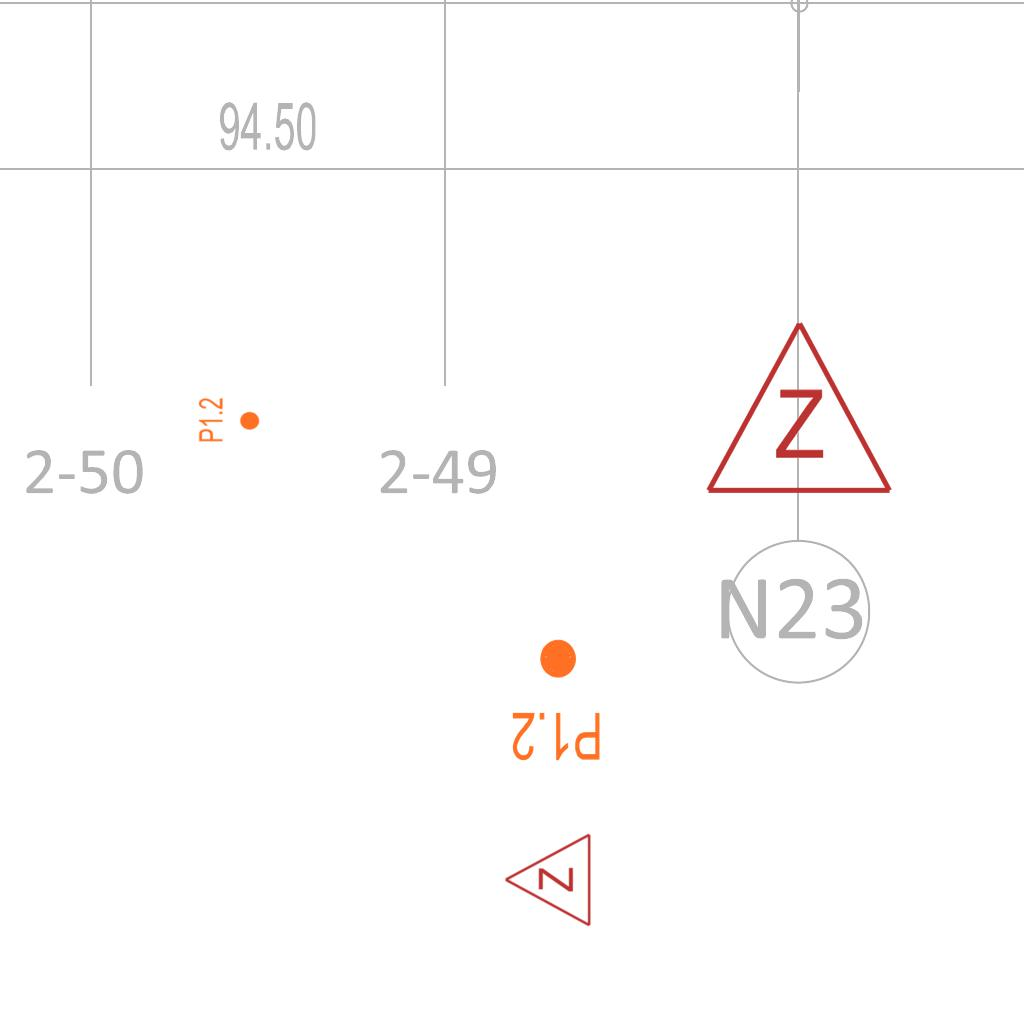Downlight_LED_Einbauleuchten_Flur: (510, 636, 603, 764), (197, 397, 261, 443)
Zimmersignalleuchte: (699, 308, 895, 508), (498, 832, 598, 930)
